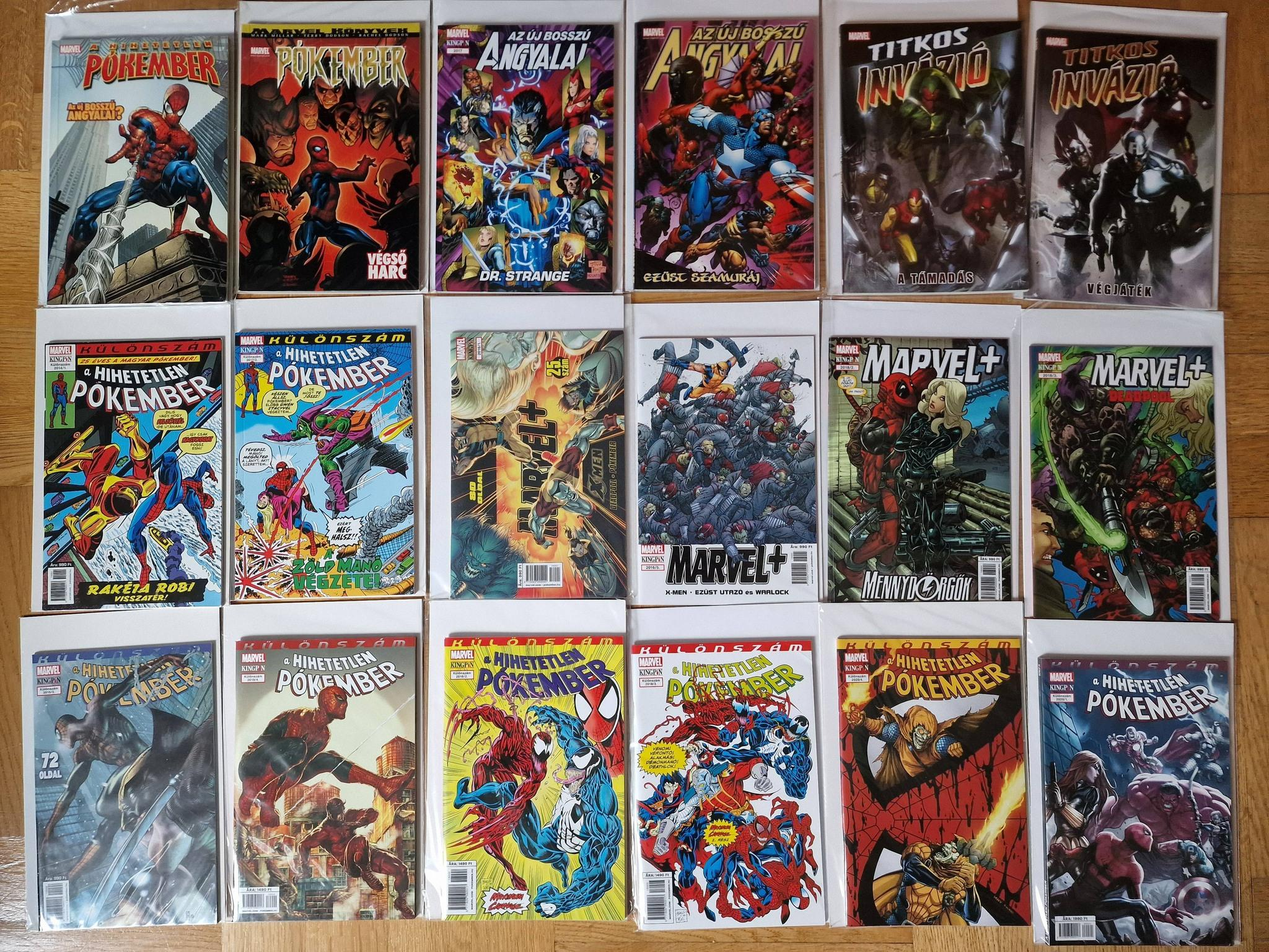comic: (1033, 653, 1238, 949), (19, 642, 228, 932), (626, 637, 827, 932), (836, 632, 1031, 930), (1025, 19, 1224, 308), (429, 634, 626, 920), (43, 13, 231, 305), (228, 636, 419, 921), (1029, 344, 1222, 620), (838, 17, 1028, 293), (631, 15, 817, 290), (37, 338, 224, 610), (432, 21, 619, 293), (230, 327, 416, 600), (826, 336, 1014, 602), (239, 21, 422, 292), (636, 335, 820, 604), (448, 330, 627, 599)
